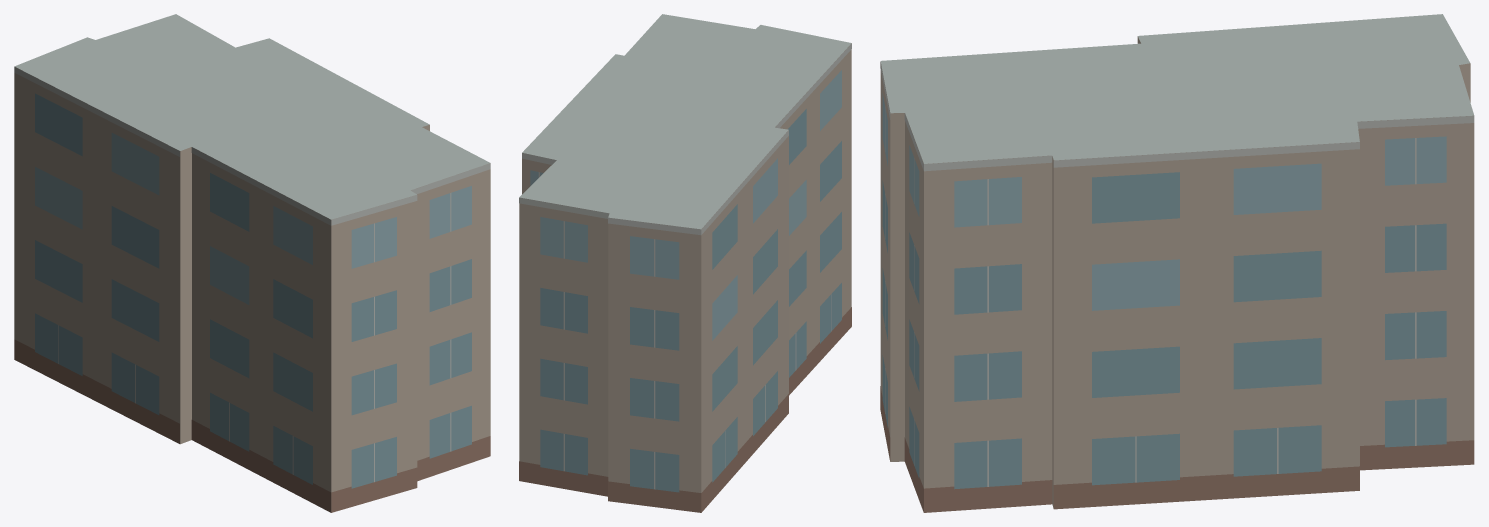
Rendered from survey-upis-32615018.glb.
3 renders of one model, left to right at view 1: azimuth 30°, elevation 25°; view 2: azimuth 150°, elevation 25°; view 3: azimuth 270°, elevation 25°, orthographic. The views are drawn at different scales.
Visible parts, largest first — view 1: survey-upis-32615018.tmp; view 2: survey-upis-32615018.tmp; view 3: survey-upis-32615018.tmp.
Boxes of the visible parts, box(x1,y1,x2,y2) form: survey-upis-32615018.tmp: box(14, 14, 490, 512); survey-upis-32615018.tmp: box(519, 14, 851, 512); survey-upis-32615018.tmp: box(880, 14, 1474, 512).
Bounding box in the file's own units: 10.8 × 11.7 × 18.06.
